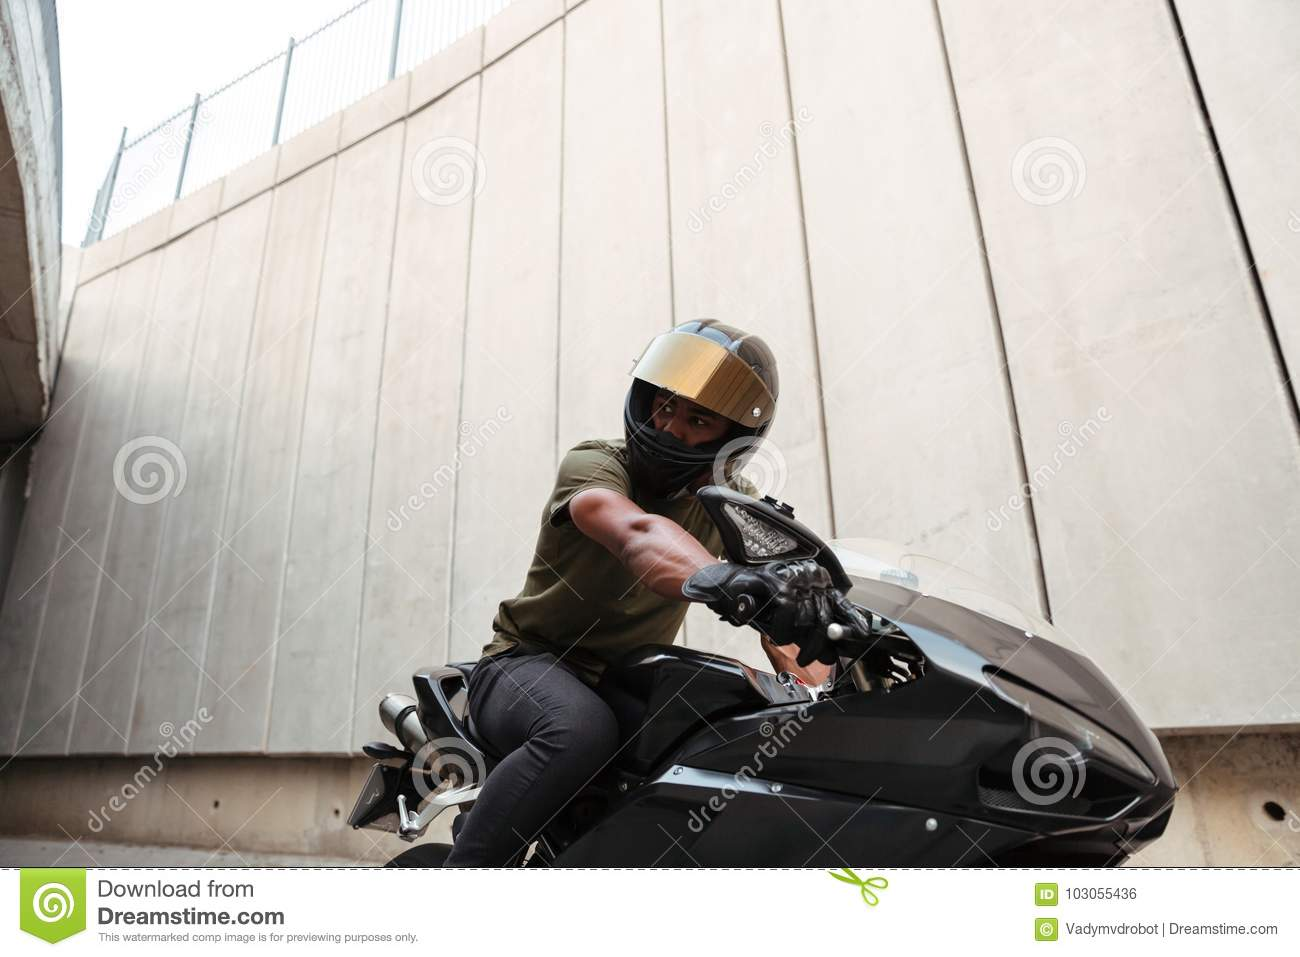helmet: (623, 304, 774, 477)
